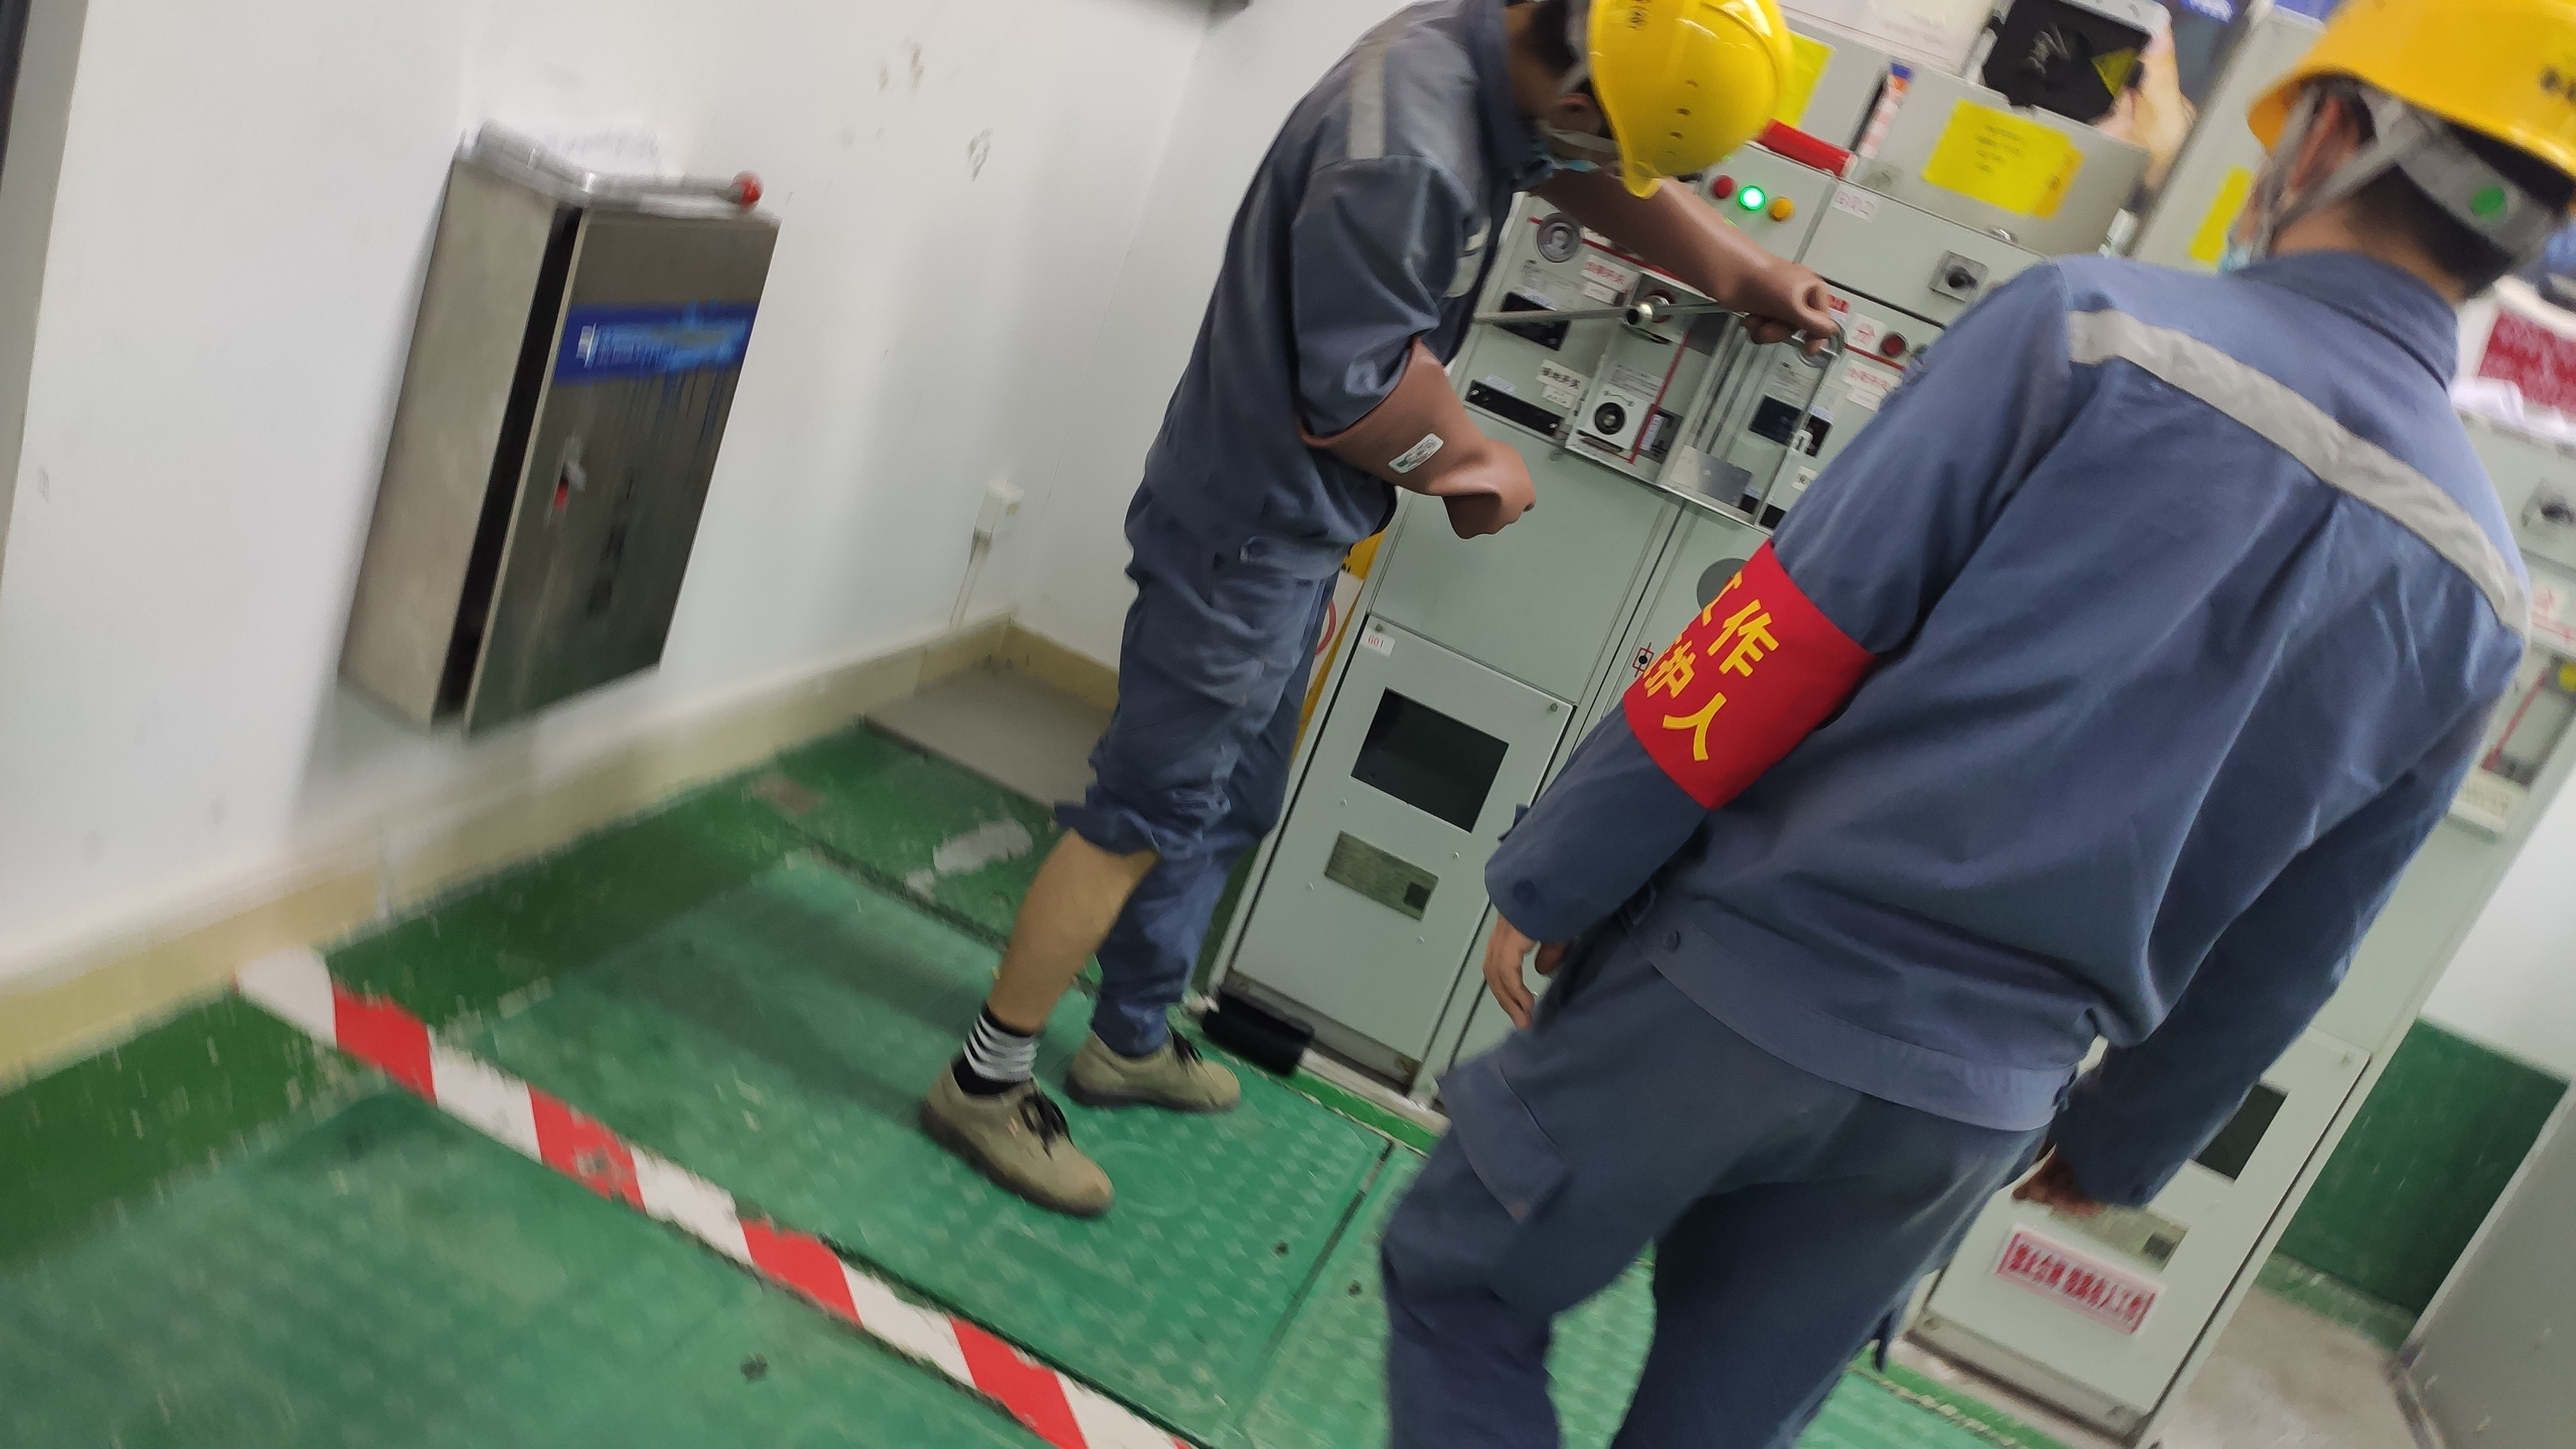downsuit: (1376, 993, 2051, 1449), (1042, 527, 1339, 1063)
upsuit: (1435, 244, 2571, 1237), (1131, 4, 1550, 586)
wrongbottom: (978, 807, 1161, 1053)
